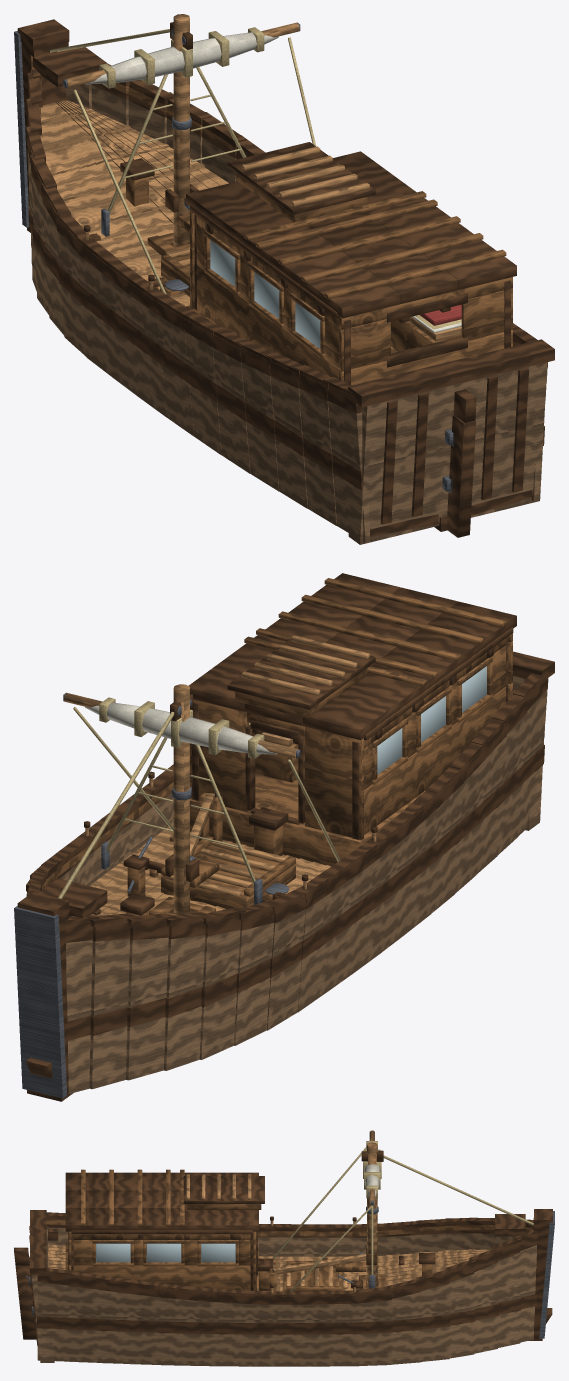
Rendered from wooden_boat_1950.fbx.
The picture shows the model from 3 angles, top to bottom: view 1: azimuth 30°, elevation 25°; view 2: azimuth 150°, elevation 25°; view 3: azimuth 270°, elevation 25°; orthographic projection. The views are drawn at different scales.
Parts seen in each view (by area): view 1: wooden_boat_1950; view 2: wooden_boat_1950; view 3: wooden_boat_1950.
Part boxes in pixels (left/top/right/bottom): wooden_boat_1950: left=14, top=14, right=554, bottom=544; wooden_boat_1950: left=14, top=573, right=554, bottom=1101; wooden_boat_1950: left=14, top=1130, right=554, bottom=1366.
Size of the model in its own units: 284 by 364 by 917.
